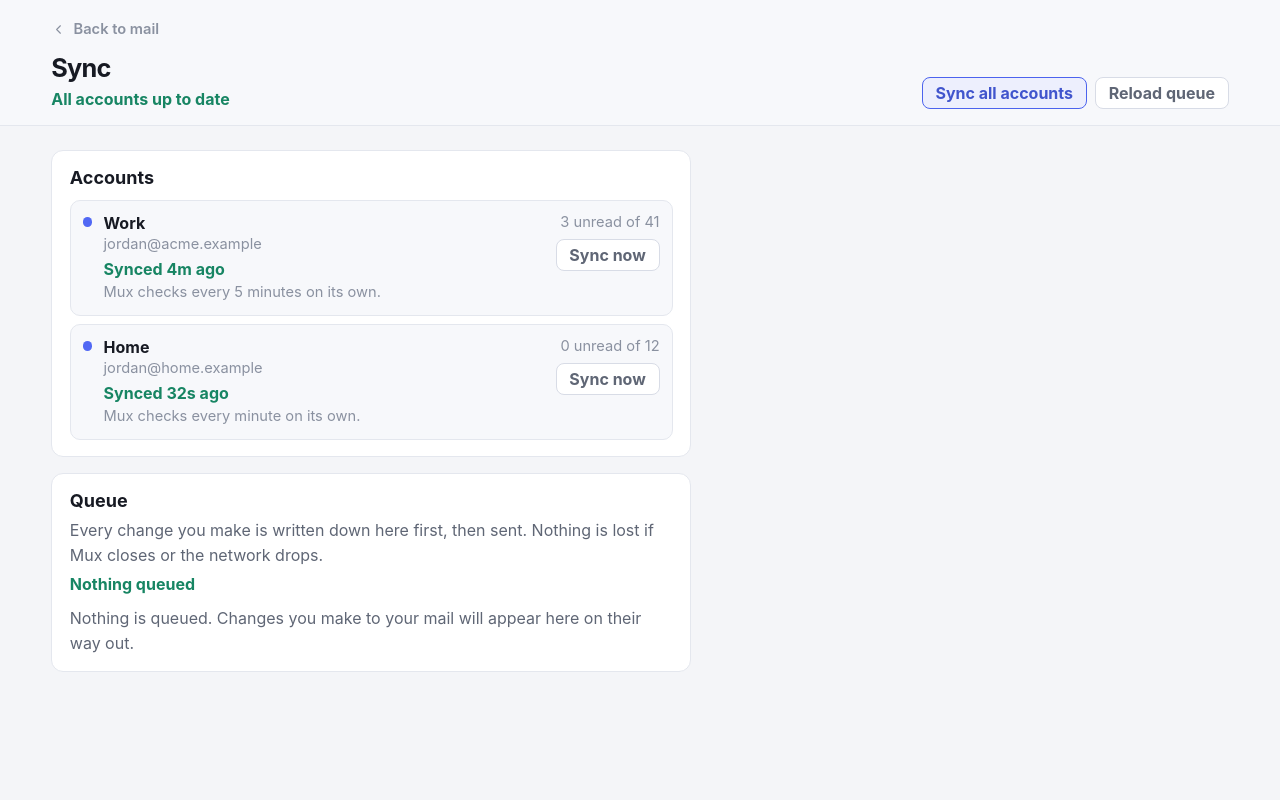
Test: sync status screen › a failed sync names the reason against the account that failed
The width and height of the screenshot is (1280, 800).
Step 1. Click the button with test id "sync-all" → (1004, 93), box [922,77,1087,109]
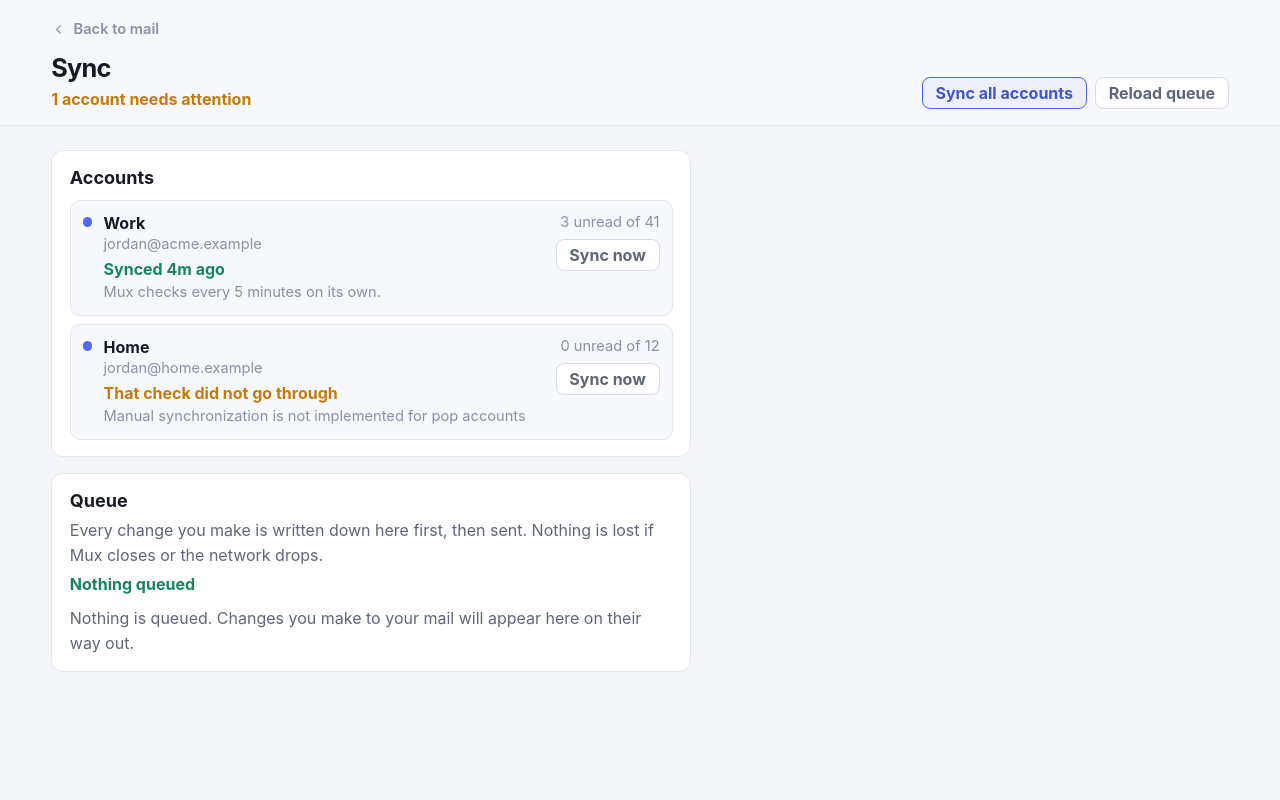
Expected: the text "Manual synchronization is not implemented for pop accounts" is shown, [104,405,544,427]
Expected: the text with test id "sync-verdict" reads "1 account needs attention", [51,89,251,109]
